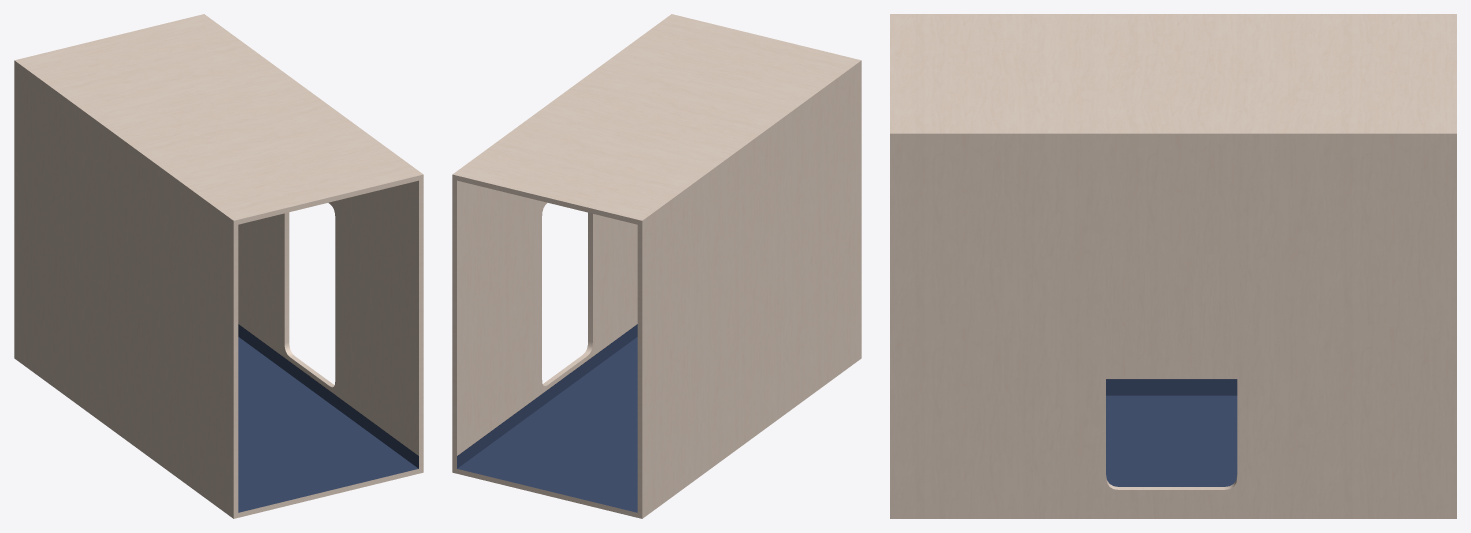
File: corridor_doorway.fbx
3 views of the same model, side by side, from view 1: azimuth 30°, elevation 25°; view 2: azimuth 150°, elevation 25°; view 3: azimuth 270°, elevation 25° (orthographic). The views are drawn at different scales.
Parts seen in each view (by area): view 1: corridor_doorway; view 2: corridor_doorway; view 3: corridor_doorway.
Part boxes in pixels (box(x1,y1,x2,y2)): corridor_doorway: box(14, 14, 423, 518); corridor_doorway: box(452, 14, 861, 518); corridor_doorway: box(890, 14, 1456, 518).
Size of the model in its own units: 200 by 300 by 400.
